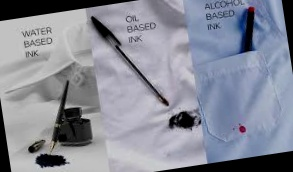ink: (34, 150, 68, 171), (168, 110, 199, 131), (238, 126, 245, 134)
